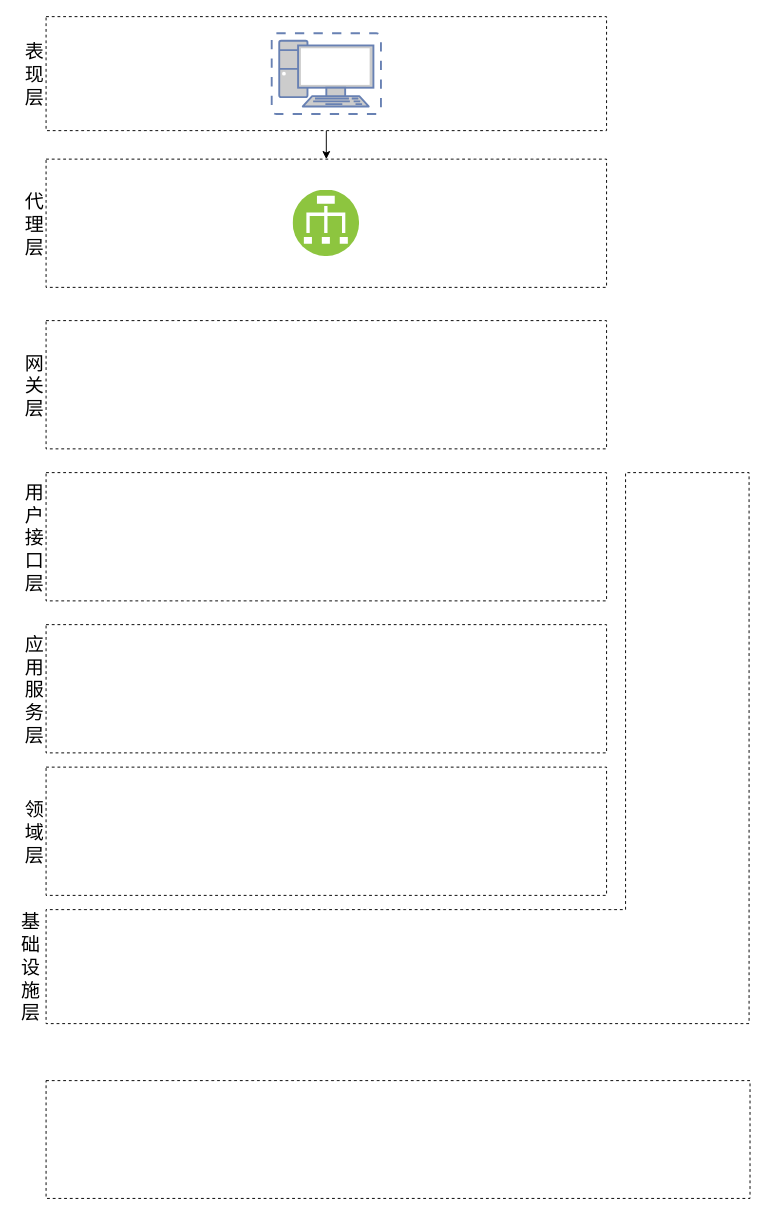
Image size: 767x1215. Some labels were removed from this diagram. The centre of each missing label's shape, as x and y in pixels:
LB: (x=326, y=223)
分布式数据服务: (x=397, y=1139)
